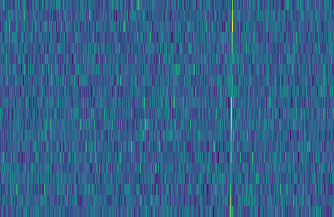signal: (226, 0, 237, 217)
